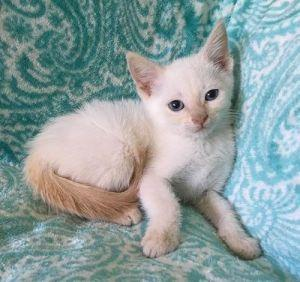siamese: (123, 20, 244, 148)
